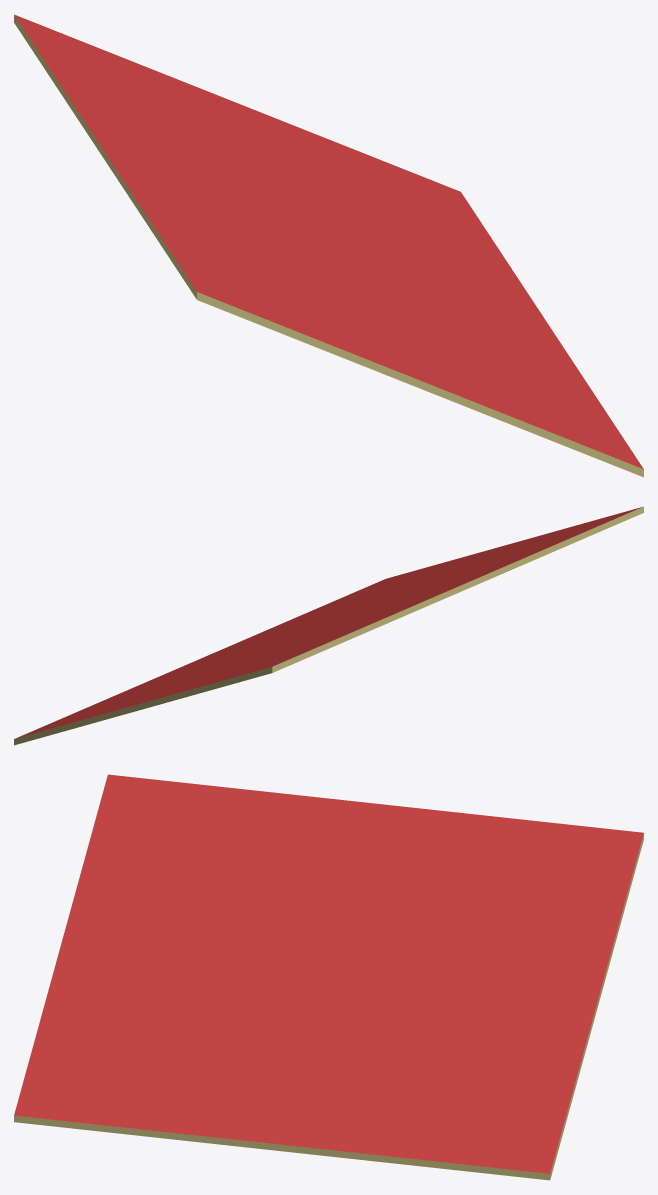
3 views of the same model, one above another, from view 1: azimuth 30°, elevation 25°; view 2: azimuth 150°, elevation 25°; view 3: azimuth 270°, elevation 25° (orthographic). The views are drawn at different scales.
Size of the model in its own units: 6.88 by 8.62 by 2.92.
